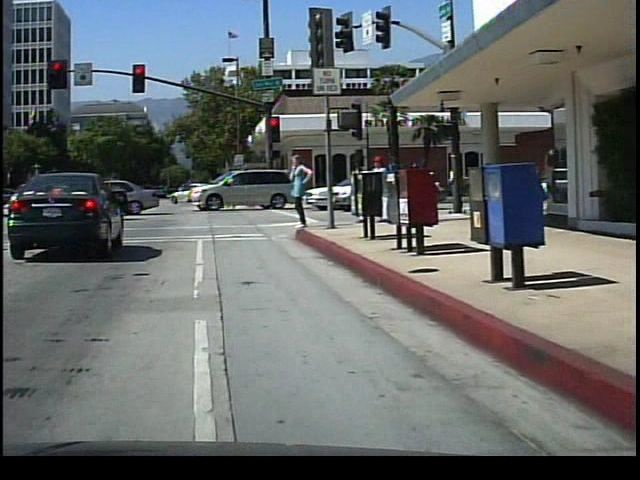person: (287, 147, 318, 231), (365, 150, 393, 223), (344, 149, 368, 223)
